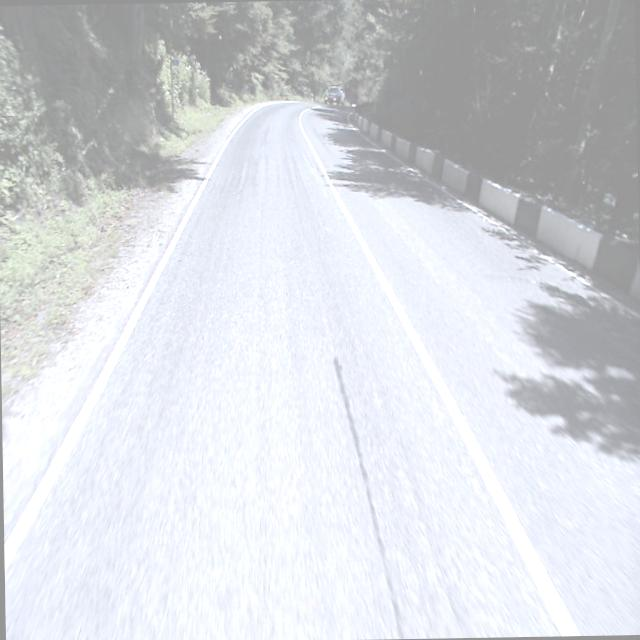road: (4, 101, 640, 640)
